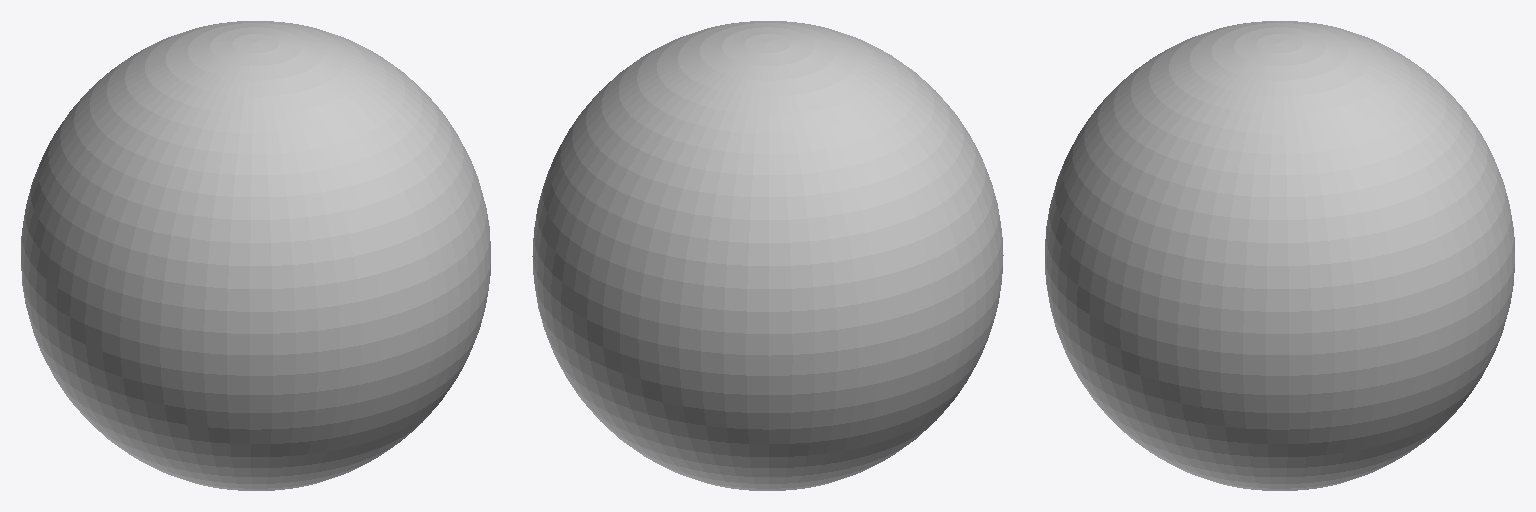
File: earth.obj
3 renders of one model, left to right at view 1: azimuth 30°, elevation 25°; view 2: azimuth 150°, elevation 25°; view 3: azimuth 270°, elevation 25°, orthographic.
Parts seen in each view (by area): view 1: Earth.002; view 2: Earth.002; view 3: Earth.002.
Boxes of the visible parts, x1=… form: Earth.002: x1=21, y1=21, x2=490, y2=490; Earth.002: x1=532, y1=21, x2=1003, y2=490; Earth.002: x1=1045, y1=21, x2=1514, y2=490.
Bounding box in the file's own units: 2.03 × 2.03 × 2.03.